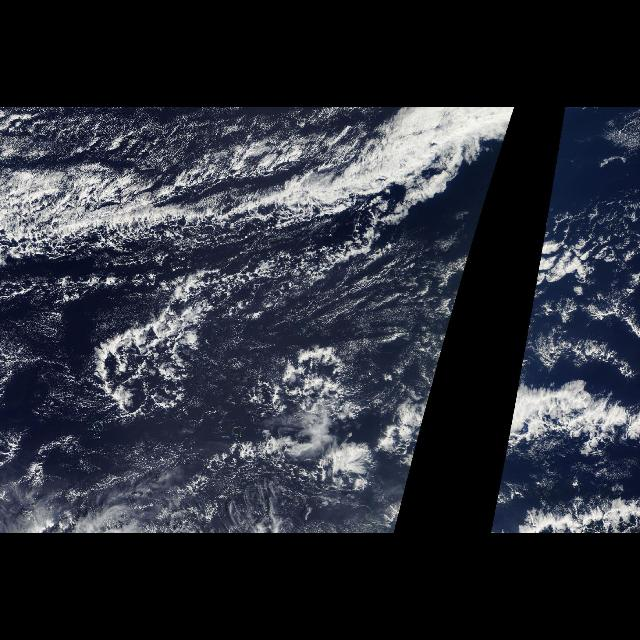Fish: (1, 107, 516, 263)
